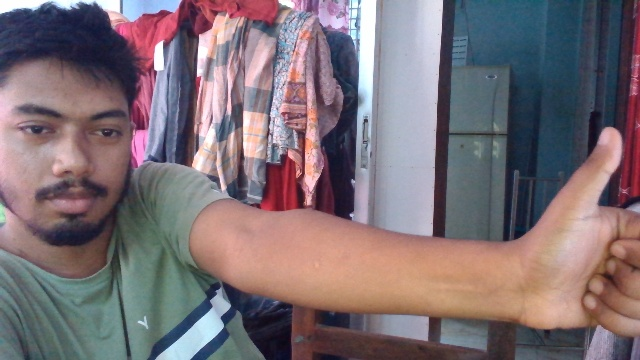yes: (531, 117, 640, 343)
